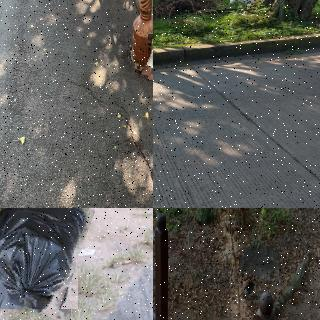Garbage: (0, 208, 86, 314), (145, 32, 153, 81), (242, 280, 254, 300)
